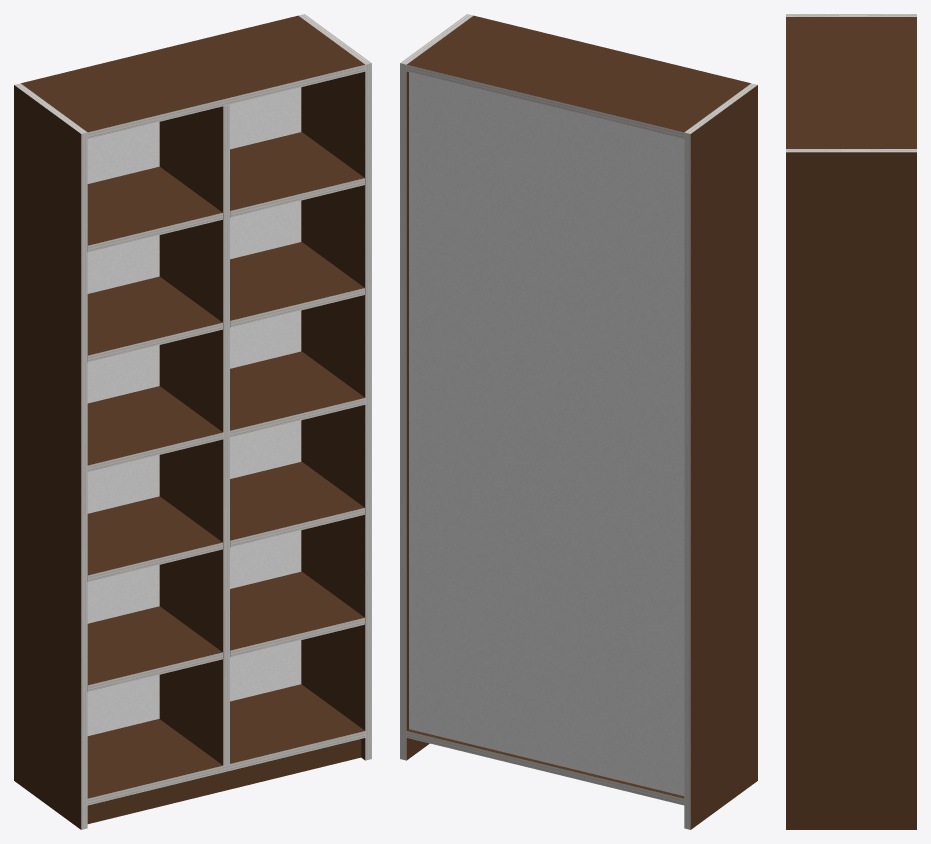
File: ATL-BKC-std.glb
The picture shows the model from 3 angles, left to right: view 1: azimuth 30°, elevation 25°; view 2: azimuth 150°, elevation 25°; view 3: azimuth 270°, elevation 25°; orthographic projection. The views are drawn at different scales.
Visible parts, largest first — view 1: side-l:pbr, back:sheet:eyJtIjoibWRmIiwic2lkZSI6ImZhY2UiLCJzZWVkIjo0LCJ0a, side-r:pbr, partition:pbr, top:pbr, bottom:pbr, shelf-fixedl:pbr, shelf-3:pbr, shelf-5:pbr, shelf-7:pbr, shelf-1:pbr, shelf-fixedr:pbr (+20 smaller); view 2: back:sheet:eyJtIjoibWRmIiwic2lkZSI6ImZhY2UiLCJzZWVkIjo0LCJ0a, side-l:pbr, top:pbr, side-l:sheet:eyJtIjoicGx5Iiwic2lkZSI6ImVkZ2UtbG9uZyIsInNlZWQ, side-r:sheet:eyJtIjoicGx5Iiwic2lkZSI6ImVkZ2UtbG9uZyIsInNlZWQ, side-r:pbr, bottom:sheet:eyJtIjoicGx5Iiwic2lkZSI6ImVkZ2UtbG9uZyIsInNlZWQ, top:sheet:eyJtIjoicGx5Iiwic2lkZSI6ImVkZ2UtbG9uZyIsInNlZWQiOj, bottom:pbr; view 3: side-r:pbr, top:pbr, side-r:sheet:eyJtIjoicGx5Iiwic2lkZSI6ImVkZ2UtZW5kIiwic2VlZCI, side-l:sheet:eyJtIjoicGx5Iiwic2lkZSI6ImVkZ2UtZW5kIiwic2VlZCI.
Boxes of the visible parts, box(x1,y1,x2,y2) form: side-l:pbr: box(14, 85, 81, 829); back:sheet:eyJtIjoibWRmIiwic2lkZSI6ImZhY2UiLCJzZWVkIjo0LCJ0a: box(87, 87, 301, 735); side-r:pbr: box(301, 71, 365, 760); partition:pbr: box(159, 106, 223, 765); top:pbr: box(21, 15, 364, 132); bottom:pbr: box(87, 684, 364, 798); shelf-fixedl:pbr: box(87, 386, 222, 465); shelf-3:pbr: box(87, 496, 222, 575); shelf-5:pbr: box(87, 276, 222, 355); shelf-7:pbr: box(87, 166, 222, 245); shelf-1:pbr: box(87, 606, 222, 685); shelf-fixedr:pbr: box(230, 351, 364, 430); back:sheet:eyJtIjoibWRmIiwic2lkZSI6ImZhY2UiLCJzZWVkIjo0LCJ0a: box(409, 72, 684, 795); side-l:pbr: box(690, 85, 757, 829); top:pbr: box(407, 15, 750, 132); side-l:sheet:eyJtIjoicGx5Iiwic2lkZSI6ImVkZ2UtbG9uZyIsInNlZWQ: box(684, 132, 690, 829); side-r:sheet:eyJtIjoicGx5Iiwic2lkZSI6ImVkZ2UtbG9uZyIsInNlZWQ: box(400, 63, 406, 760); side-r:pbr: box(406, 71, 429, 760); bottom:sheet:eyJtIjoicGx5Iiwic2lkZSI6ImVkZ2UtbG9uZyIsInNlZWQ: box(406, 731, 684, 805); top:sheet:eyJtIjoicGx5Iiwic2lkZSI6ImVkZ2UtbG9uZyIsInNlZWQiOj: box(406, 65, 684, 138); bottom:pbr: box(407, 729, 684, 798); side-r:pbr: box(786, 152, 916, 829); top:pbr: box(786, 17, 916, 148); side-r:sheet:eyJtIjoicGx5Iiwic2lkZSI6ImVkZ2UtZW5kIiwic2VlZCI: box(786, 149, 916, 152); side-l:sheet:eyJtIjoicGx5Iiwic2lkZSI6ImVkZ2UtZW5kIiwic2VlZCI: box(786, 14, 916, 16).
Bounding box in the file's own units: 0.8 × 1.83 × 0.32.
Materials: 51 (35 with a texture image).
